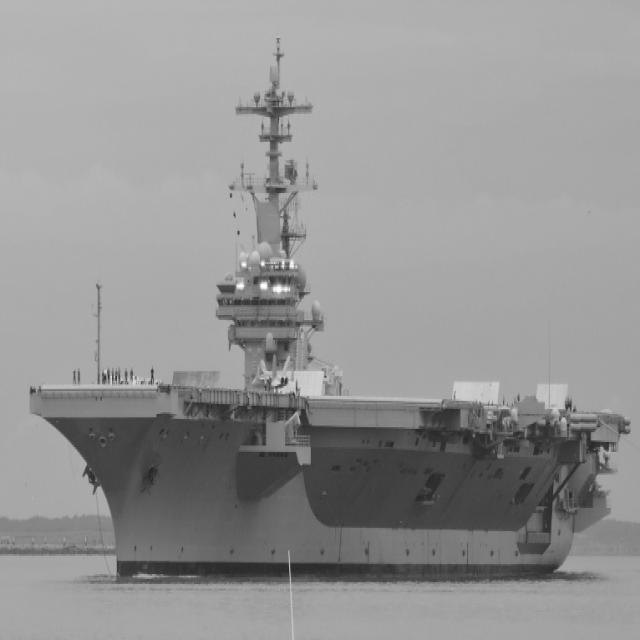Portanaves: (29, 29, 635, 588)
